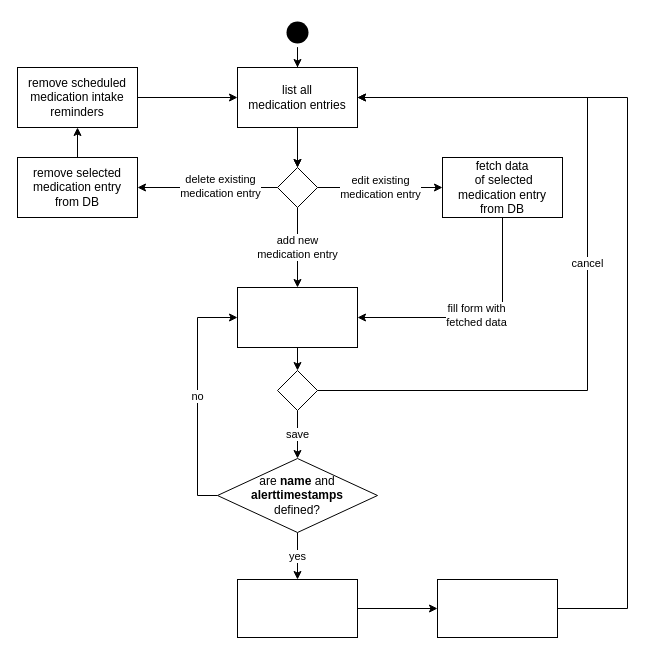
Image size: 653x655. Some labels were removed from this diagram. The shapes that lost their labels are listed below. From the top down, each one's centre as x and y in pixels, then its label:
At (297,317): "display form of a medication entry".
At (297,608): "add/update medication entry to DB".
At (497,608): "schedule medication intake reminders".
